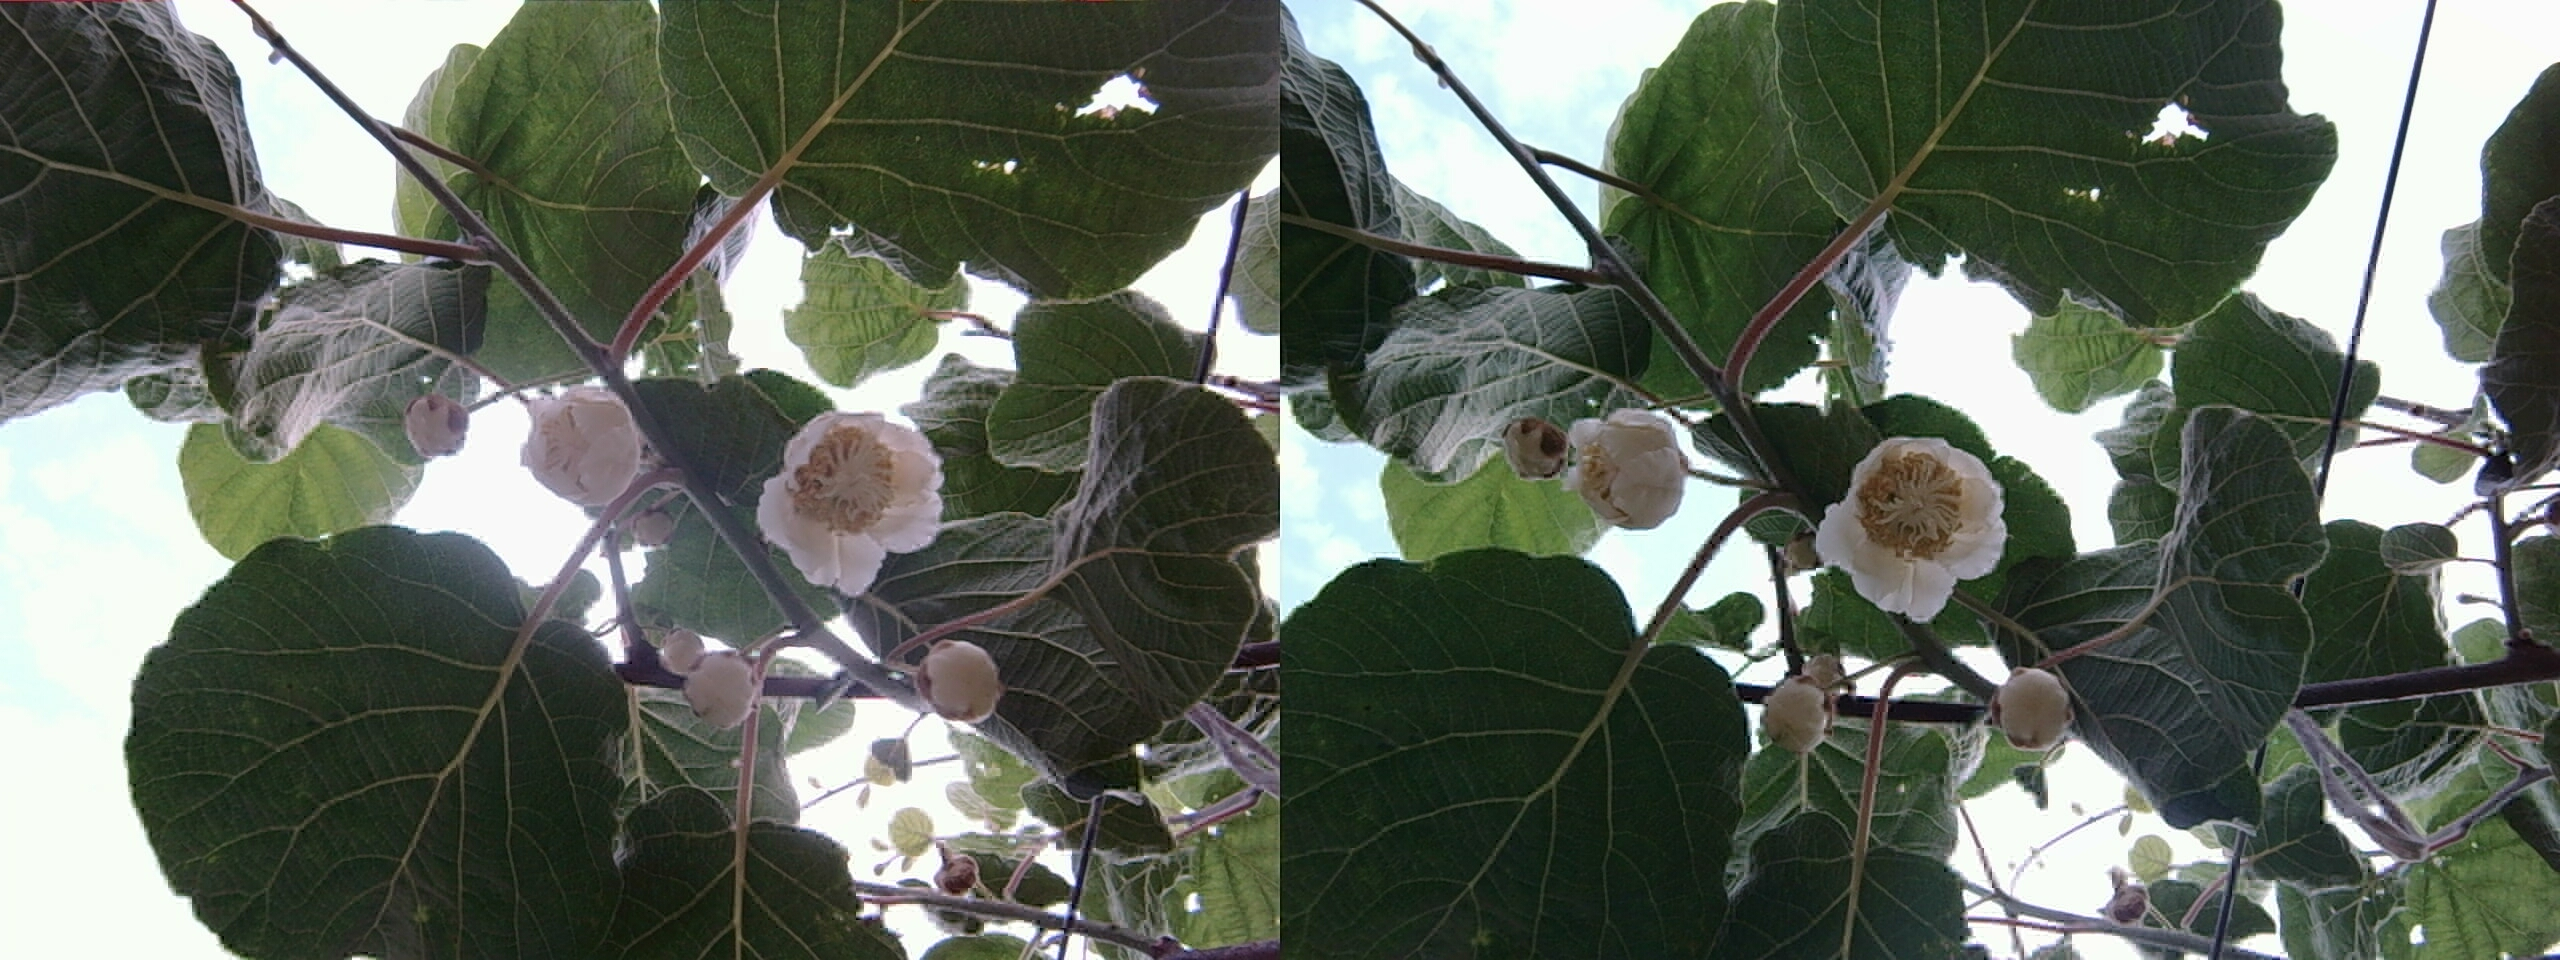flower: (748, 393, 949, 591), (1812, 421, 2015, 616)
